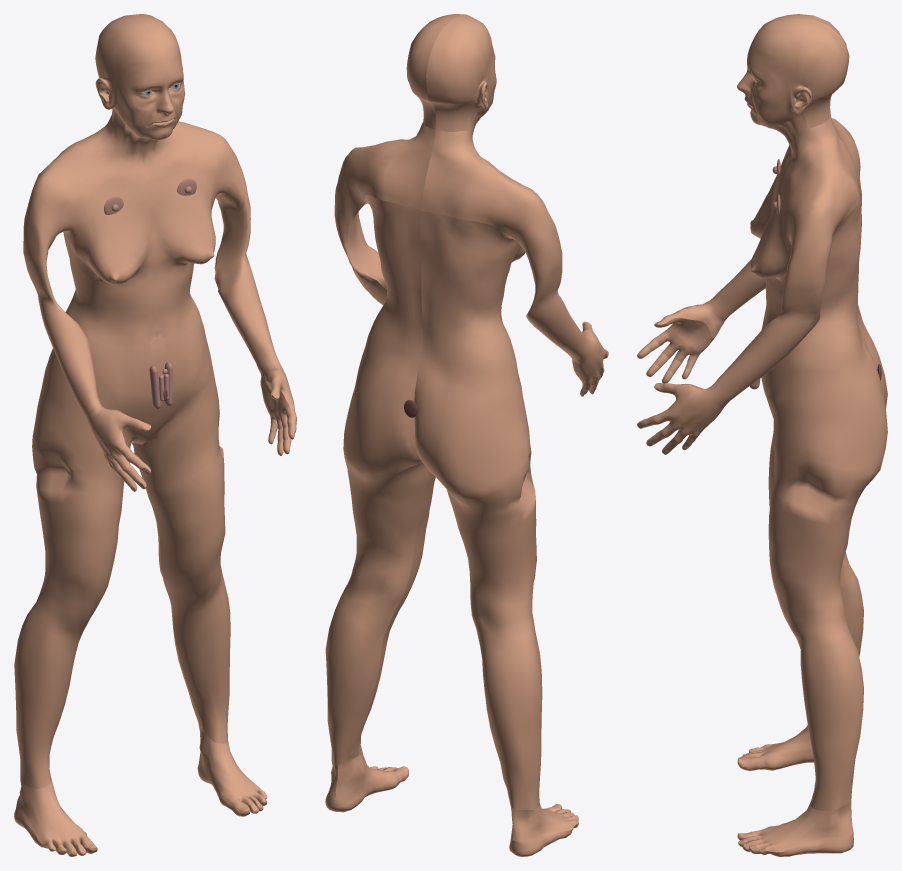
The model's file is body-hochbetagt-weiblich-real-v3.glb.
3 renders of one model, left to right at view 1: azimuth 30°, elevation 25°; view 2: azimuth 150°, elevation 25°; view 3: azimuth 270°, elevation 25°, orthographic.
Visible parts, largest first — view 1: real-human-body; view 2: real-human-body; view 3: real-human-body.
Boxes of the visible parts, left/top/right/bottom form: real-human-body: left=14, top=14, right=296, bottom=856; real-human-body: left=325, top=14, right=608, bottom=856; real-human-body: left=637, top=14, right=887, bottom=856.
Size of the model in its own units: 0.463 by 1.59 by 0.4583.
Materials: 8 (1 with a texture image).
